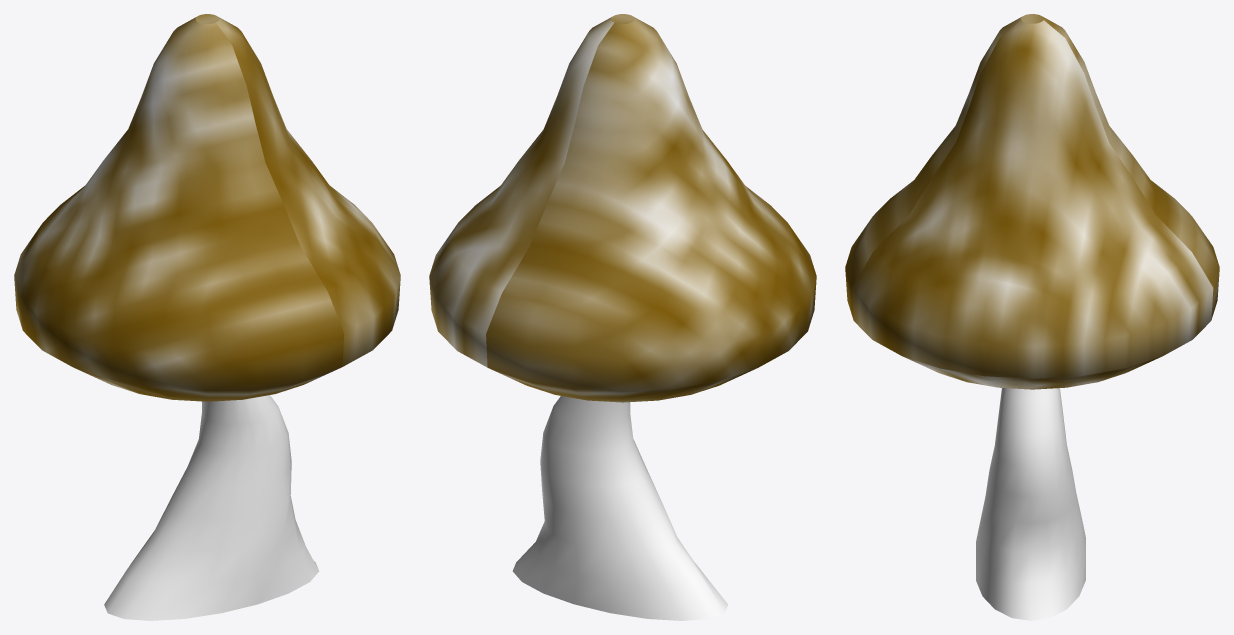
Rendered from tallShroom.FBX.
3 renders of one model, left to right at view 1: azimuth 30°, elevation 25°; view 2: azimuth 150°, elevation 25°; view 3: azimuth 270°, elevation 25°, orthographic. The views are drawn at different scales.
Visible parts, largest first — view 1: Cylinder01; view 2: Cylinder01; view 3: Cylinder01.
Part boxes in pixels (x1,y1,x2,y2): Cylinder01: (14, 14, 400, 620); Cylinder01: (429, 14, 816, 620); Cylinder01: (845, 14, 1219, 620).
Bounding box in the file's own units: 17.4 × 28.25 × 17.4.
1 material, 1 textured.
